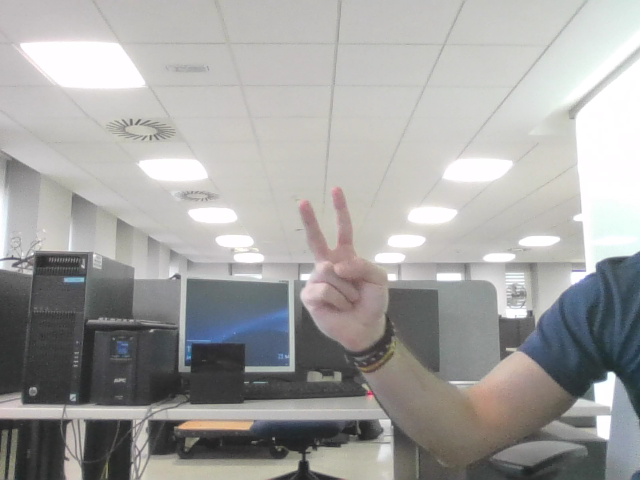2Dedos: (309, 199, 374, 300)
